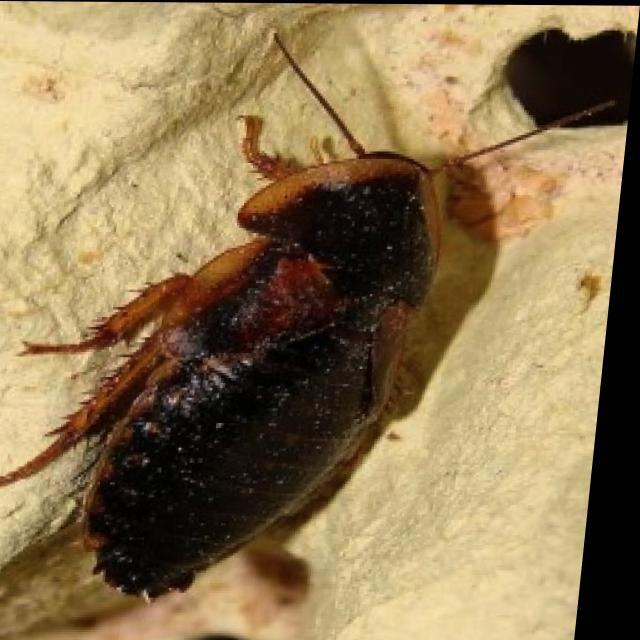cockroach: (2, 27, 627, 607)
